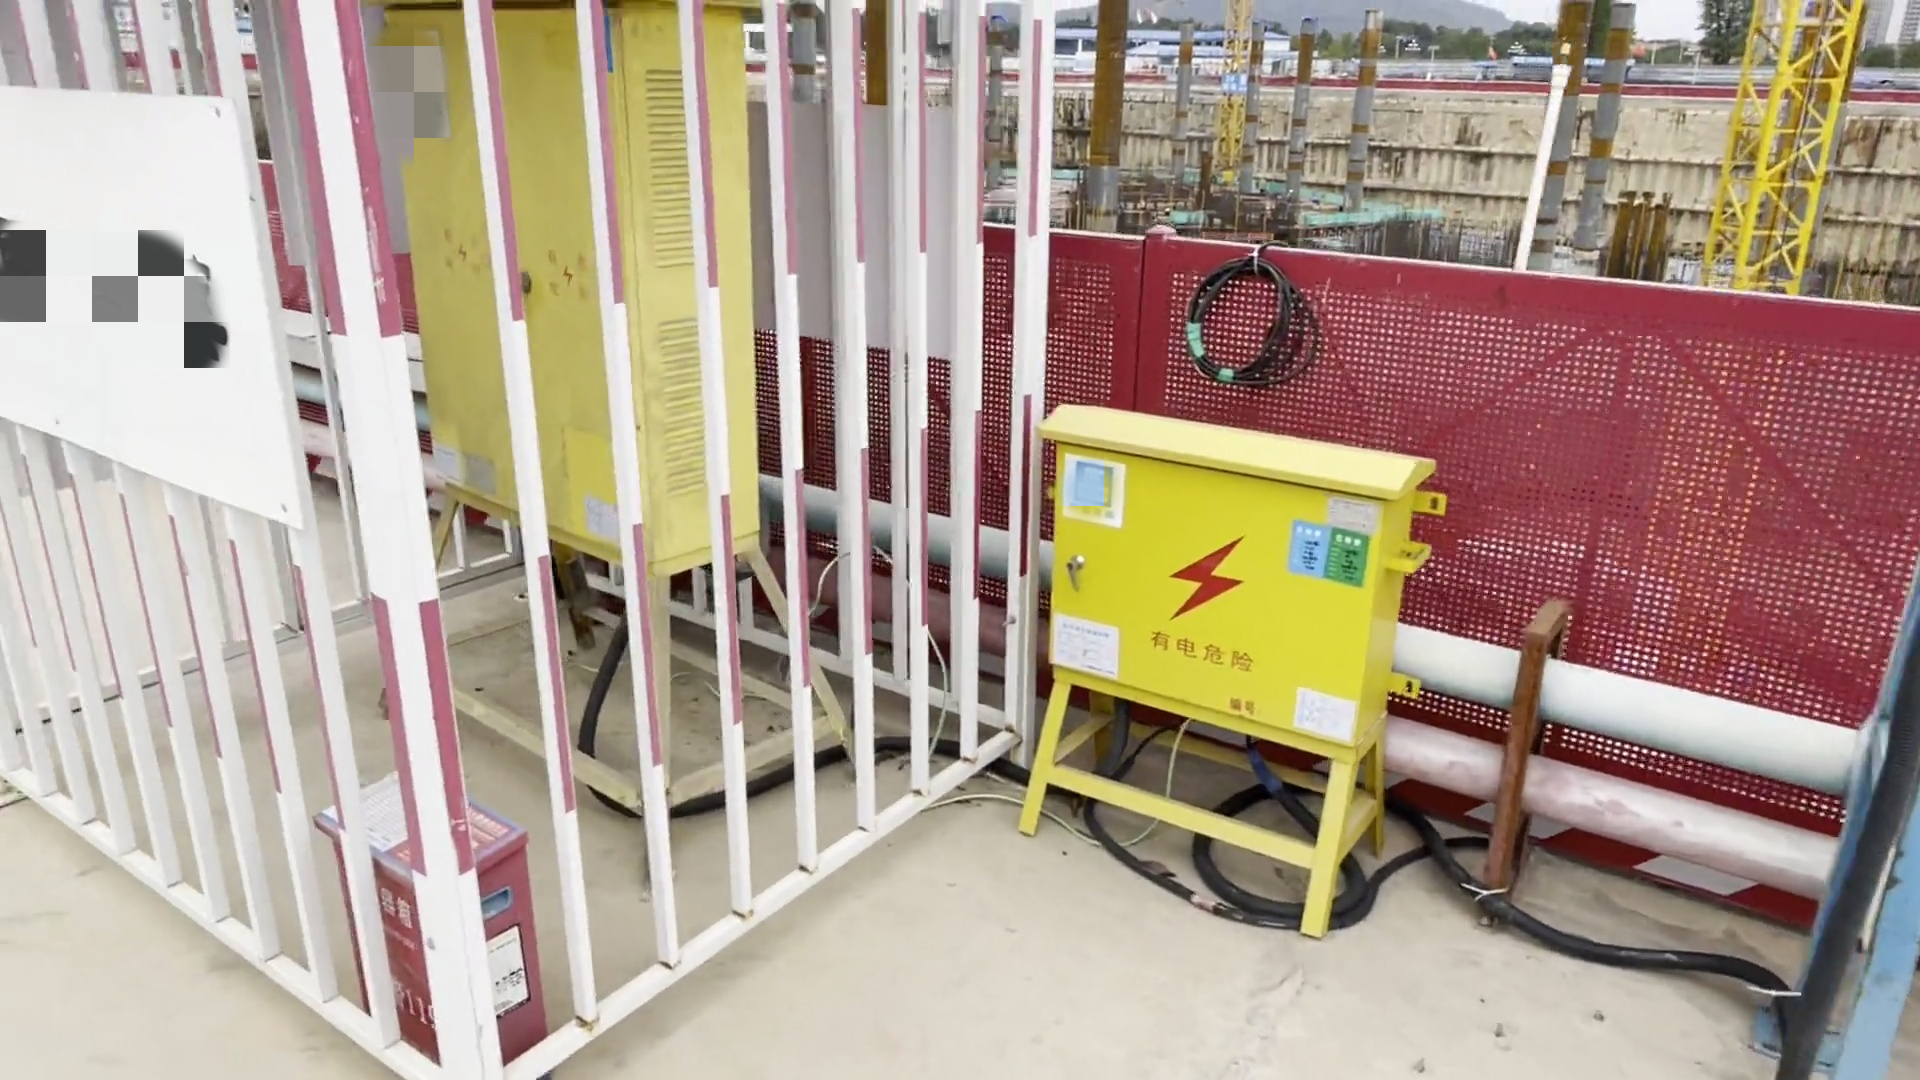ebox: (327, 3, 869, 822), (1015, 373, 1423, 926)
